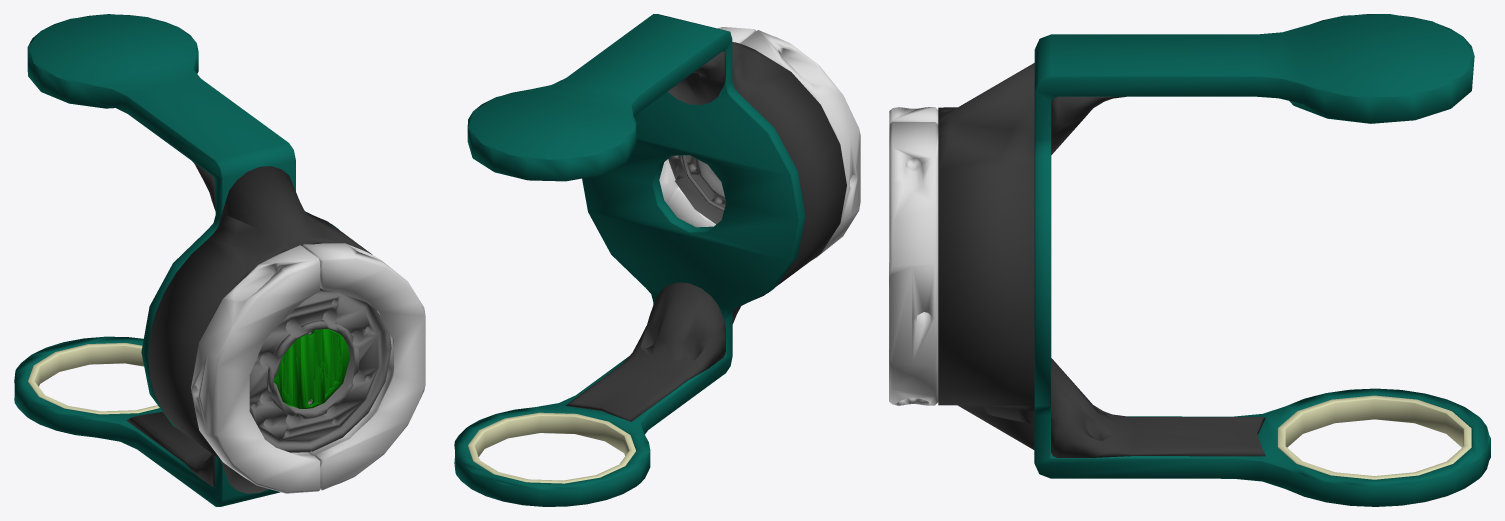
Rendered from 2h09090_arml_t8.obj.
3 views of the same model, side by side, from view 1: azimuth 30°, elevation 25°; view 2: azimuth 150°, elevation 25°; view 3: azimuth 270°, elevation 25° (orthographic). The views are drawn at different scales.
Size of the model in its own units: 0.09 by 0.1341 by 0.1813.
